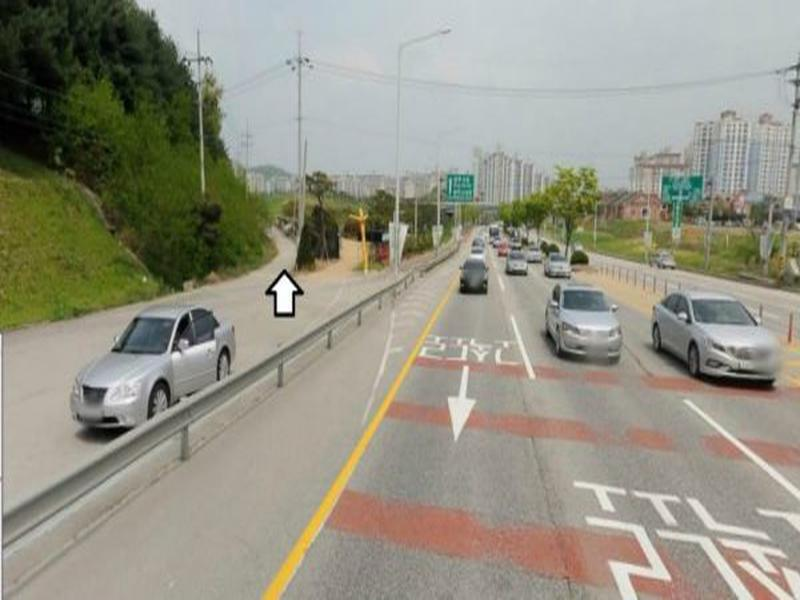car: (68, 306, 234, 422), (650, 290, 779, 382), (544, 284, 621, 359)
lane: (290, 360, 414, 561), (687, 400, 790, 487), (514, 319, 534, 377)
